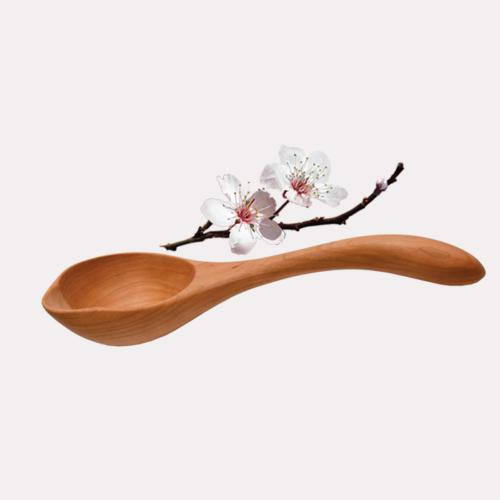Spoon: (41, 234, 486, 347)
